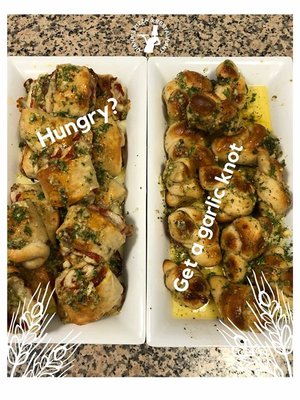curry: (7, 49, 299, 350)
sandwich: (12, 64, 132, 328)
